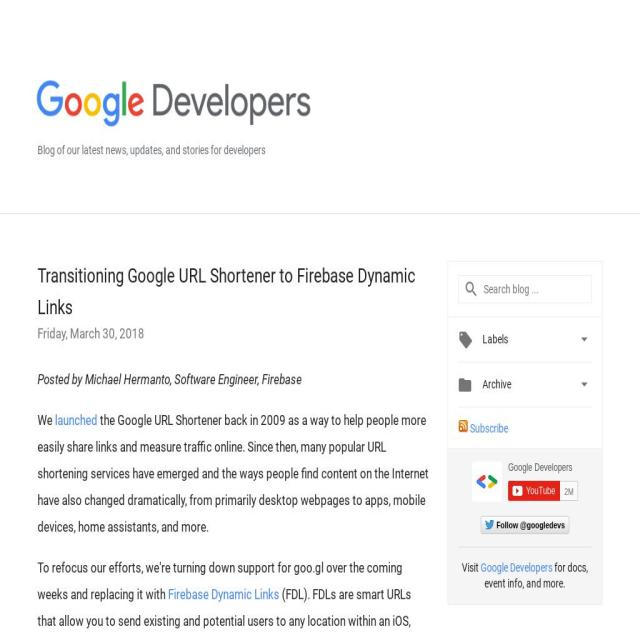button: (35, 78, 312, 131), (480, 516, 570, 535)
field: (458, 275, 592, 303)
heading: (38, 264, 416, 319), (482, 374, 512, 395), (483, 329, 508, 349)
iframe: (472, 462, 578, 502)
image: (38, 78, 602, 128), (458, 330, 473, 351), (458, 419, 468, 433)
link: (168, 586, 280, 602), (480, 561, 552, 575), (55, 412, 97, 428), (470, 422, 508, 436)
text: (38, 412, 428, 535), (38, 586, 428, 640), (38, 559, 402, 603), (38, 142, 602, 158), (37, 371, 302, 387), (484, 561, 588, 591), (38, 325, 144, 342), (485, 520, 566, 531), (577, 374, 592, 395), (577, 329, 592, 349), (458, 375, 472, 396), (37, 412, 55, 428), (462, 561, 481, 575)
